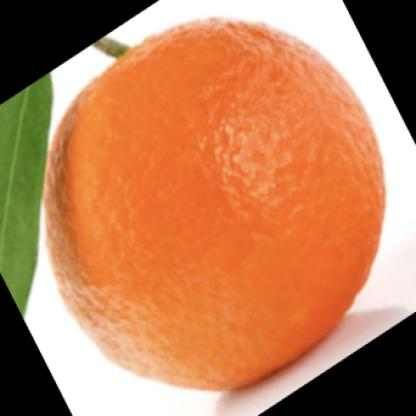fresh: (42, 19, 386, 389)
